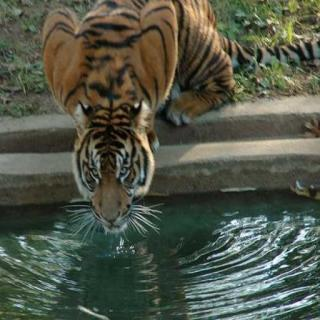Tiger: (31, 0, 264, 235)
